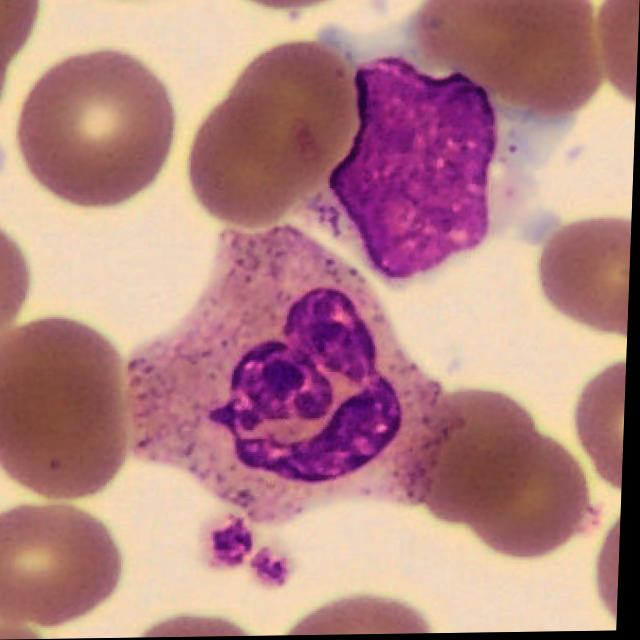Linfocito atipico: (333, 27, 572, 279)
Neutrofilo segmentado: (135, 230, 470, 525)
